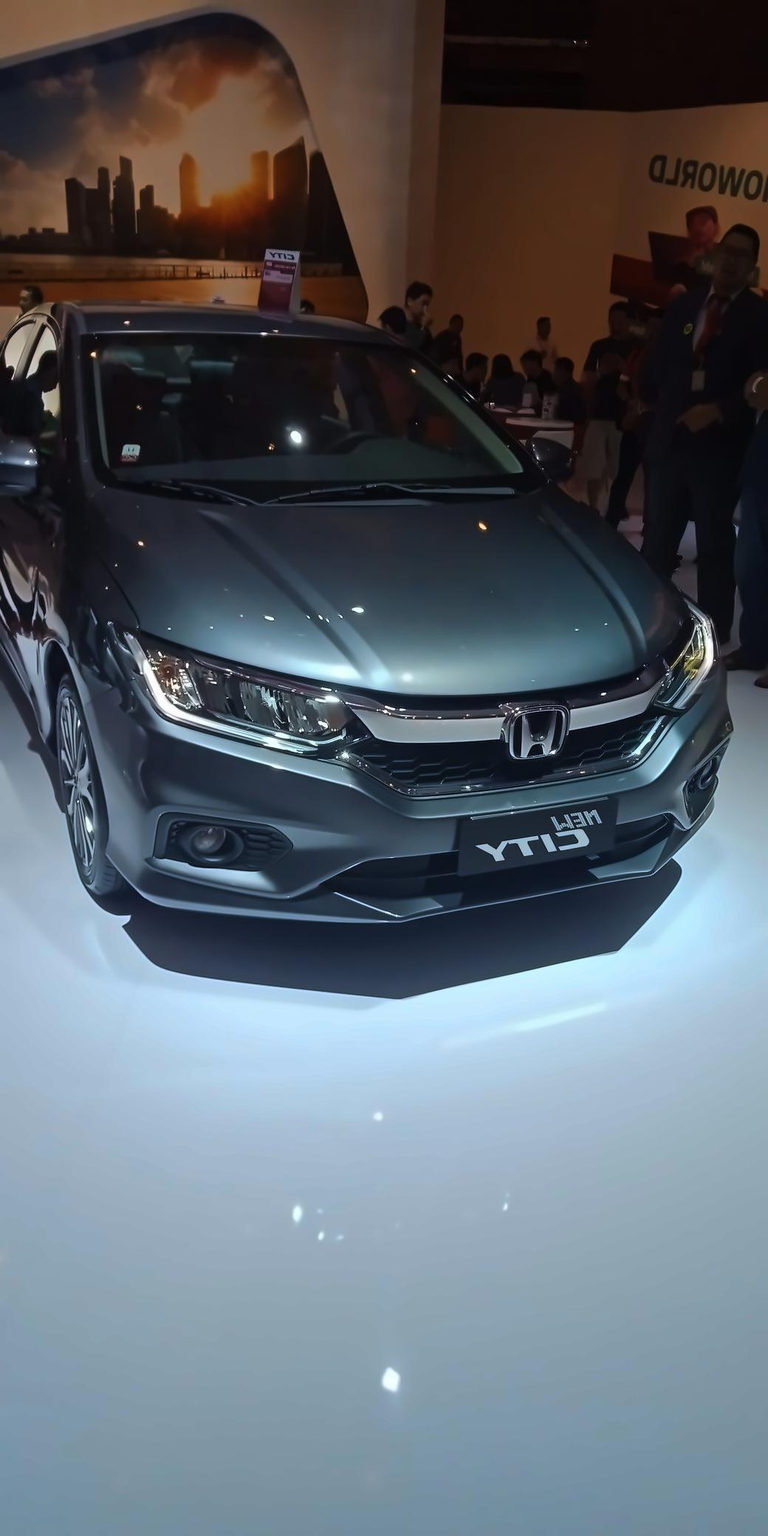Car hood: (76, 480, 715, 696)
Fender - -F-R-: (17, 466, 155, 752)
Front bumper: (68, 666, 739, 936)
Headlight - -L-: (642, 594, 736, 723)
Headlight - -R-: (111, 606, 373, 768)
Side mirror - -L-: (502, 427, 595, 487)
Side mirror - -R-: (0, 421, 50, 515)
